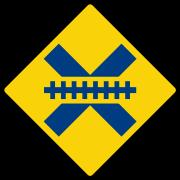Barrier Ahead: (13, 15, 176, 165)
